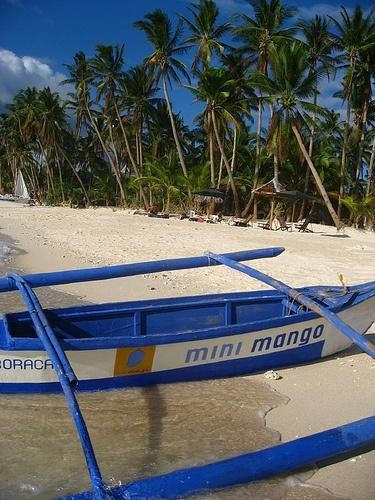boat: (2, 249, 375, 500)
